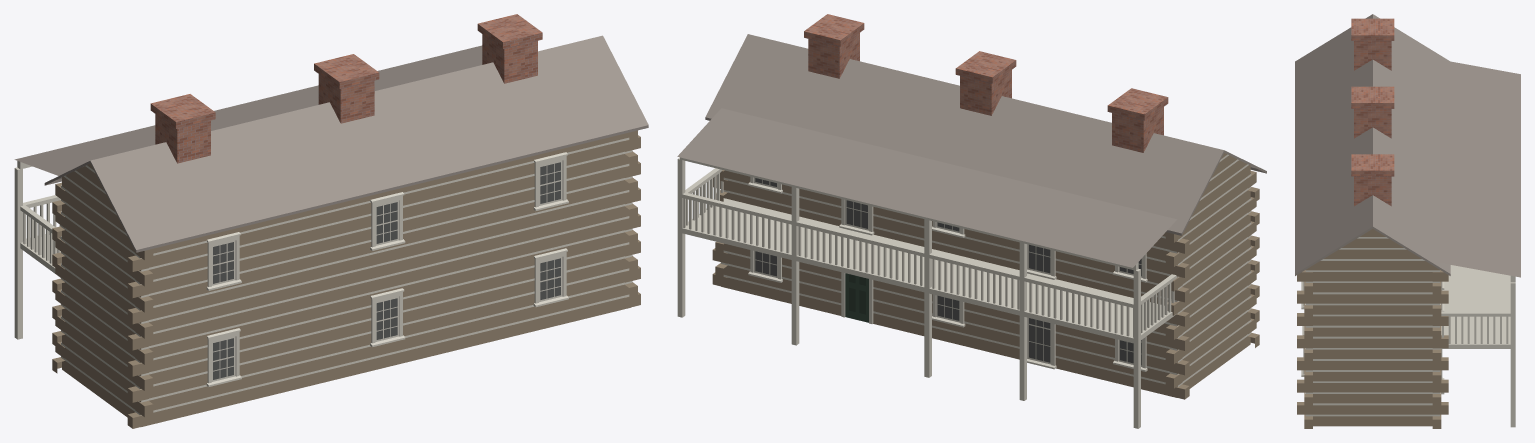
File: first_fort_dearborn_officers_barracks__first_fort_1803.glb
3 views of the same model, side by side, from view 1: azimuth 30°, elevation 25°; view 2: azimuth 150°, elevation 25°; view 3: azimuth 270°, elevation 25° (orthographic). The views are drawn at different scales.
Parts seen in each view (by area): view 1: first_fort_dearborn_officers_barracks__first_fort_1803; view 2: first_fort_dearborn_officers_barracks__first_fort_1803; view 3: first_fort_dearborn_officers_barracks__first_fort_1803.
Boxes of the visible parts, left/top/right/bottom form: first_fort_dearborn_officers_barracks__first_fort_1803: left=14, top=14, right=648, bottom=428; first_fort_dearborn_officers_barracks__first_fort_1803: left=677, top=14, right=1266, bottom=428; first_fort_dearborn_officers_barracks__first_fort_1803: left=1295, top=14, right=1520, bottom=428.
Size of the model in its own units: 13.95 by 7.03 by 6.27.
7 materials, 1 textured.
